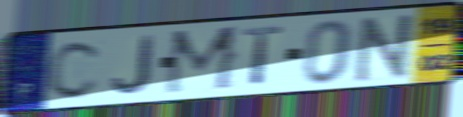0: (302, 17, 355, 86)
C: (45, 38, 105, 101)
J: (111, 33, 155, 96)
M: (162, 23, 243, 97)
N: (351, 11, 420, 85)
T: (242, 24, 286, 88)
